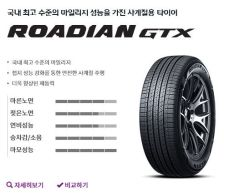new_condition: (140, 56, 203, 179)
